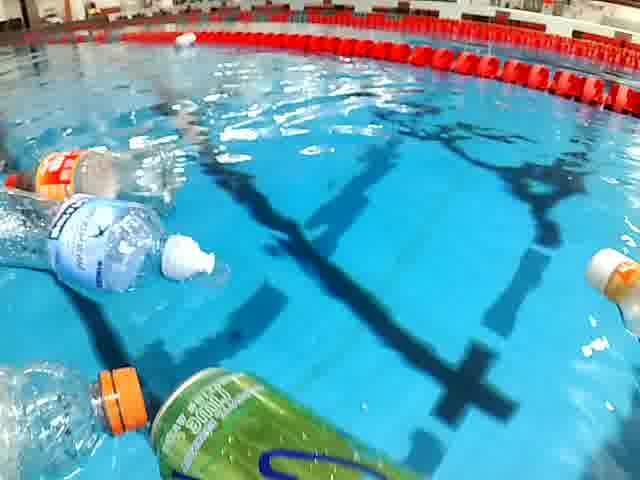Bottle: (0, 187, 236, 296), (0, 356, 168, 480), (0, 140, 198, 204), (570, 245, 640, 343)
Can: (142, 357, 439, 480)
